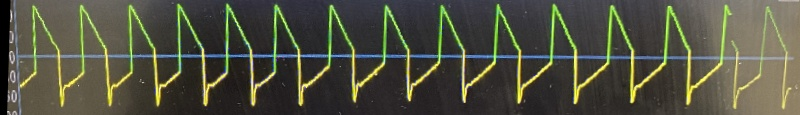peepi: (18, 0, 797, 111)
